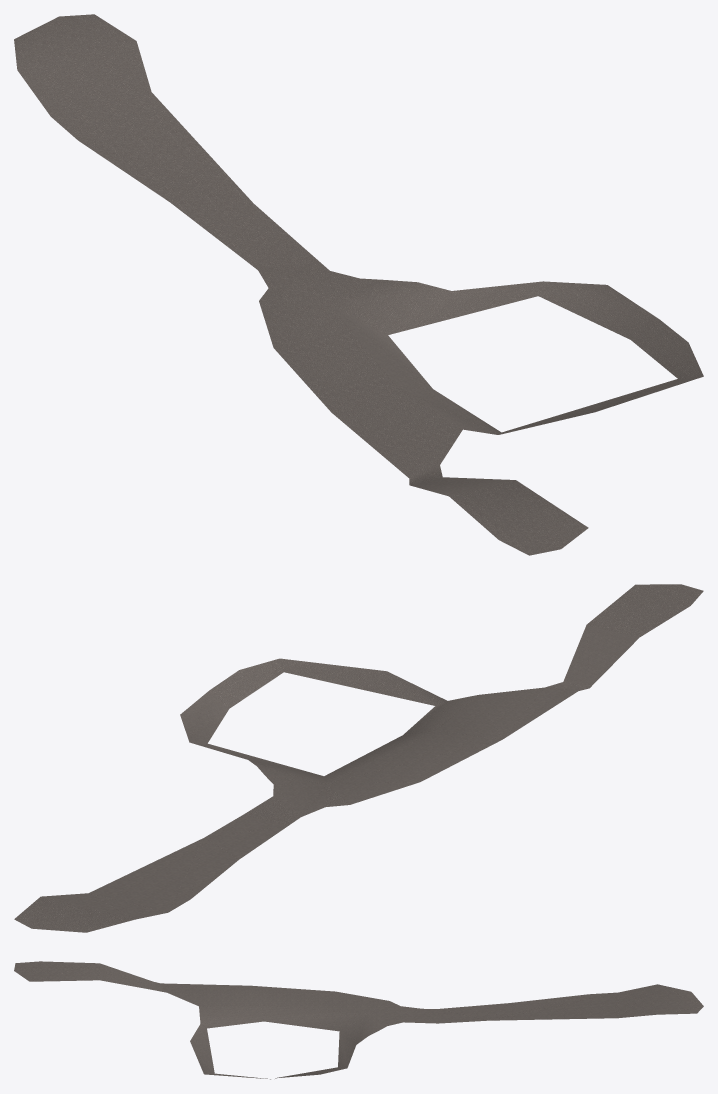
File: kd_stage_135ded_4_133_bounded_piece_0.glb
The picture shows the model from 3 angles, top to bottom: view 1: azimuth 30°, elevation 25°; view 2: azimuth 150°, elevation 25°; view 3: azimuth 270°, elevation 25°; orthographic projection. The views are drawn at different scales.
Visible parts, largest first — view 1: kd_stage_135ded_4_133_bounded_piece_0; view 2: kd_stage_135ded_4_133_bounded_piece_0; view 3: kd_stage_135ded_4_133_bounded_piece_0.
Boxes of the visible parts, x1,y1,x2,y2 form: kd_stage_135ded_4_133_bounded_piece_0: [14, 14, 703, 555]; kd_stage_135ded_4_133_bounded_piece_0: [14, 584, 703, 932]; kd_stage_135ded_4_133_bounded_piece_0: [14, 961, 703, 1079].
Size of the model in its own units: 2.83 by 0.4355 by 8.42.
Materials: 1 (1 with a texture image).
